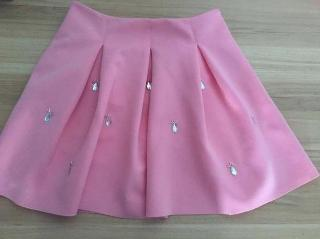skirt: (0, 0, 319, 220)
